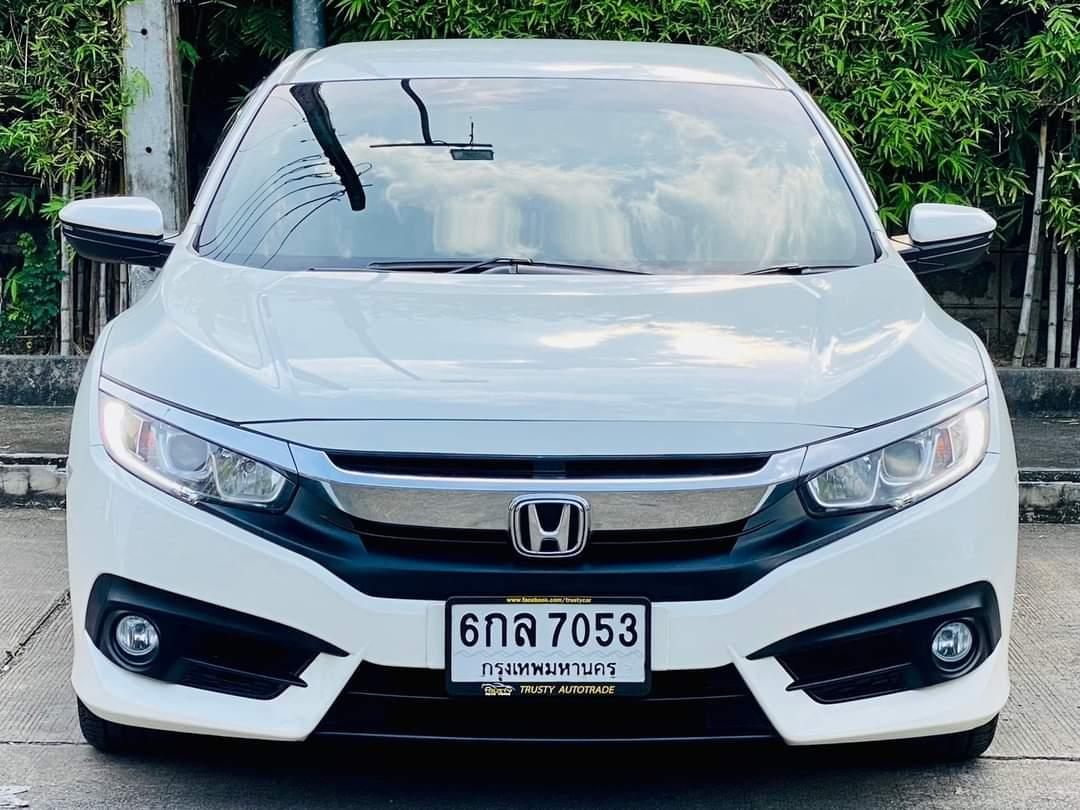license-plate: (443, 592, 655, 702)
